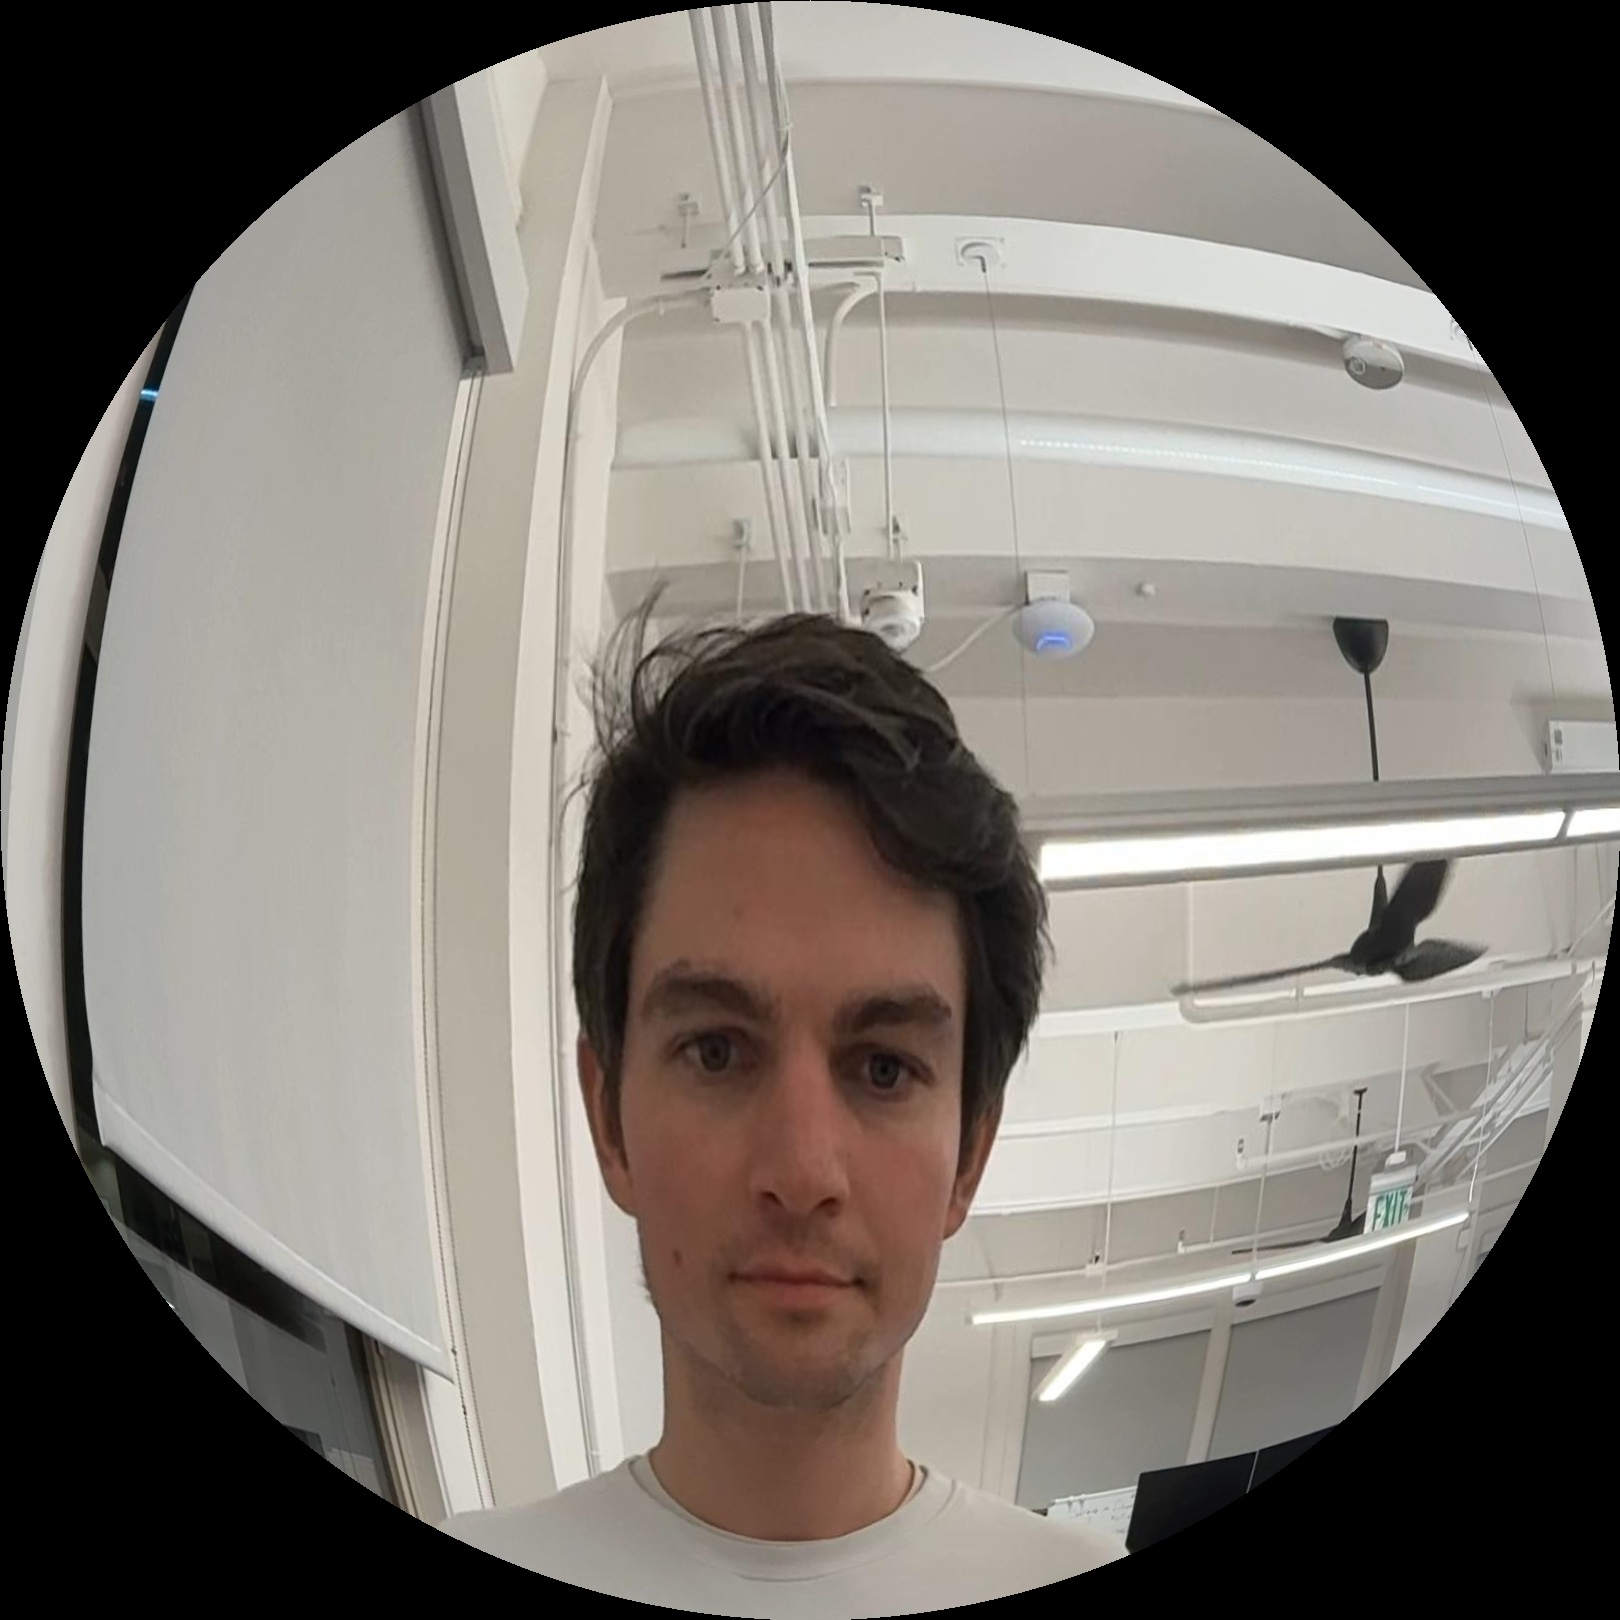face: (542, 603, 1054, 1416)
